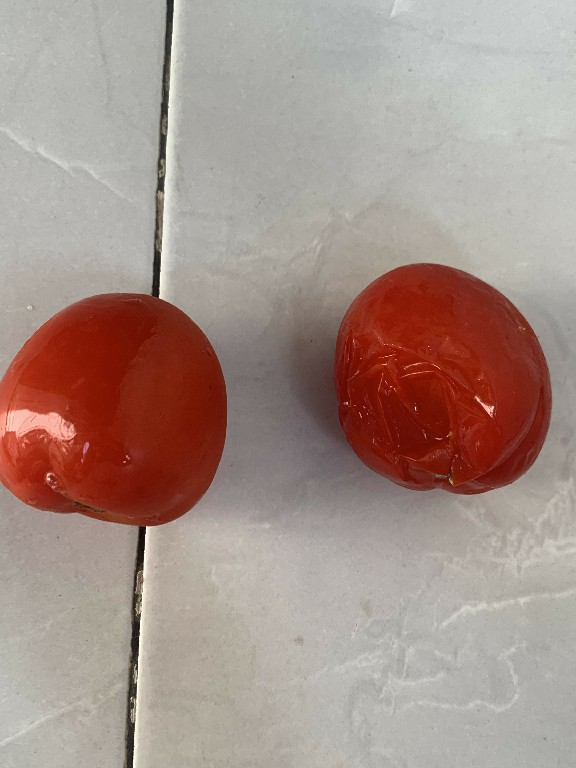NG: (329, 259, 568, 499)
OK: (0, 279, 243, 530)
